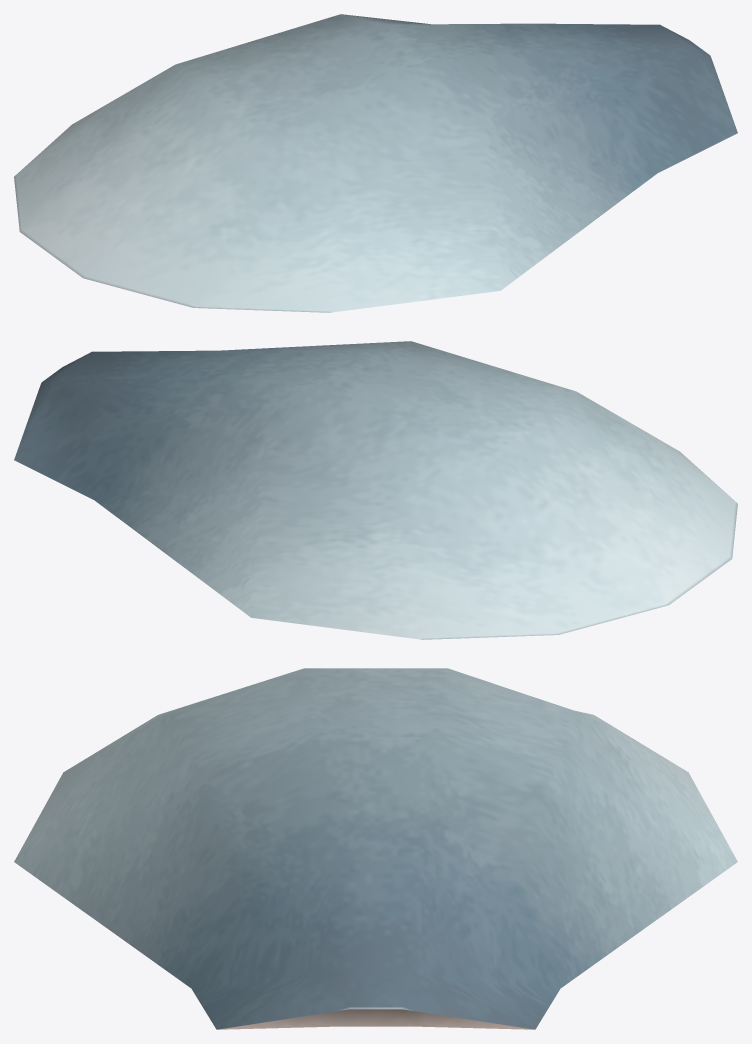
File: Shell_Slate.fbx
3 renders of one model, top to bottom at view 1: azimuth 30°, elevation 25°; view 2: azimuth 150°, elevation 25°; view 3: azimuth 270°, elevation 25°, orthographic. The views are drawn at different scales.
Visible parts, largest first — view 1: Shell Slate Top.001; view 2: Shell Slate Top.001; view 3: Shell Slate Top.001, Shell Slate Bottom.001.
Part boxes in pixels (bbox=[...]): Shell Slate Top.001: bbox=[14, 14, 737, 312]; Shell Slate Top.001: bbox=[14, 341, 737, 639]; Shell Slate Top.001: bbox=[14, 668, 737, 1029]; Shell Slate Bottom.001: bbox=[219, 1009, 532, 1029].
Bounding box in the file's own units: 10.79 × 2 × 8.58.
